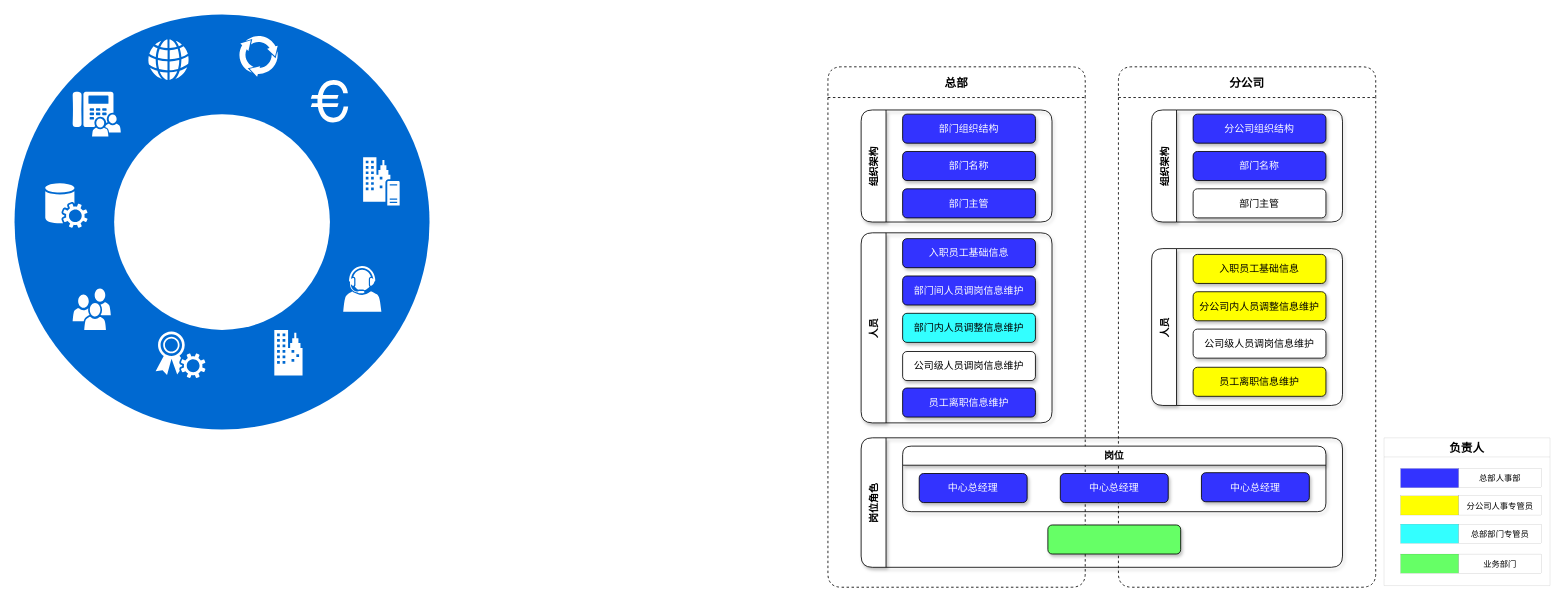
Some shapes in this 1564 by 602 pixel diagram are drawn without their labels. The shapes that lost their labels are listed below. From the top down, each one's centre as x and y in pixels, then its label:
At point (168, 59): "Global Partnerships".
At point (258, 55): "Environmental Awareness".
At point (96, 113): "Response Group".
At point (329, 101): "Finance".
At point (381, 181): "Digital Development".
At point (66, 205): "Central Management Service".
At point (222, 222): "Enterprise Business Model".
At point (362, 288): "Customer Service".
At point (91, 309): "Community".
At point (180, 354): "Technology Certificates".
At point (288, 352): "Infrastructure".
At point (1115, 540): "角色".
